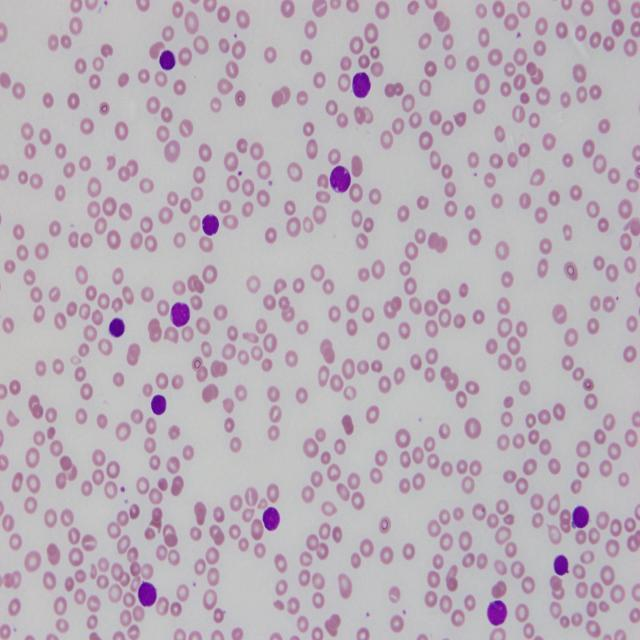cell: (330, 165, 351, 192), (488, 600, 508, 626), (352, 72, 371, 98), (171, 302, 190, 327), (138, 582, 156, 607), (262, 507, 280, 530), (572, 507, 589, 528), (202, 215, 219, 235), (159, 50, 175, 70), (109, 318, 125, 337), (151, 395, 166, 415), (554, 555, 569, 575)
